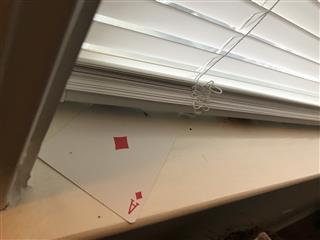AceOfDiamonds: (37, 103, 179, 223)
